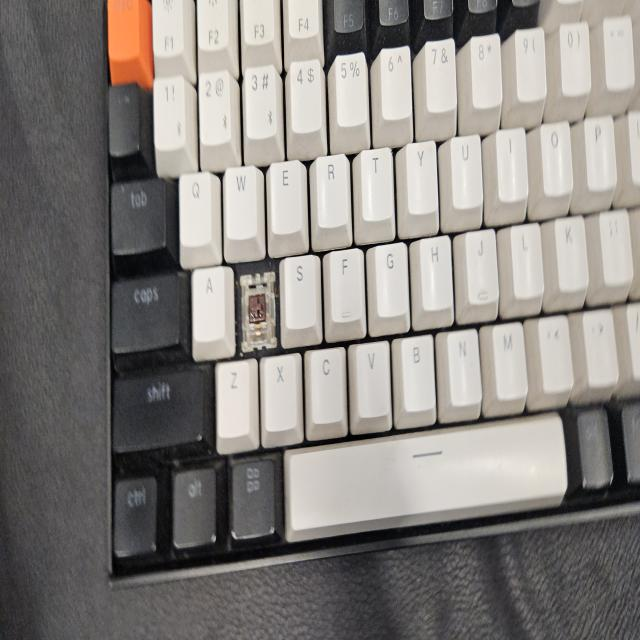C: (240, 273, 275, 335)
